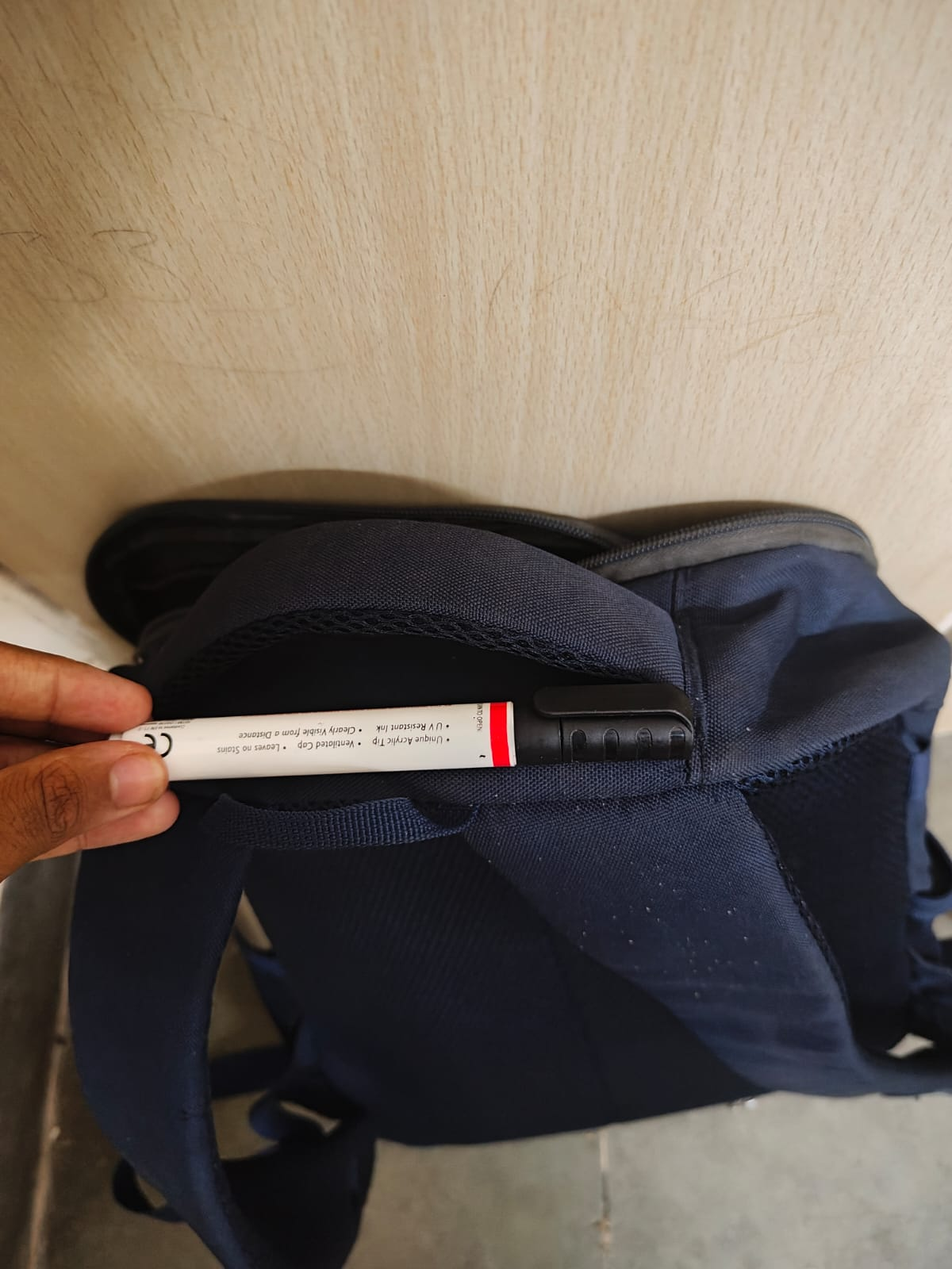case: (118, 670, 751, 838)
